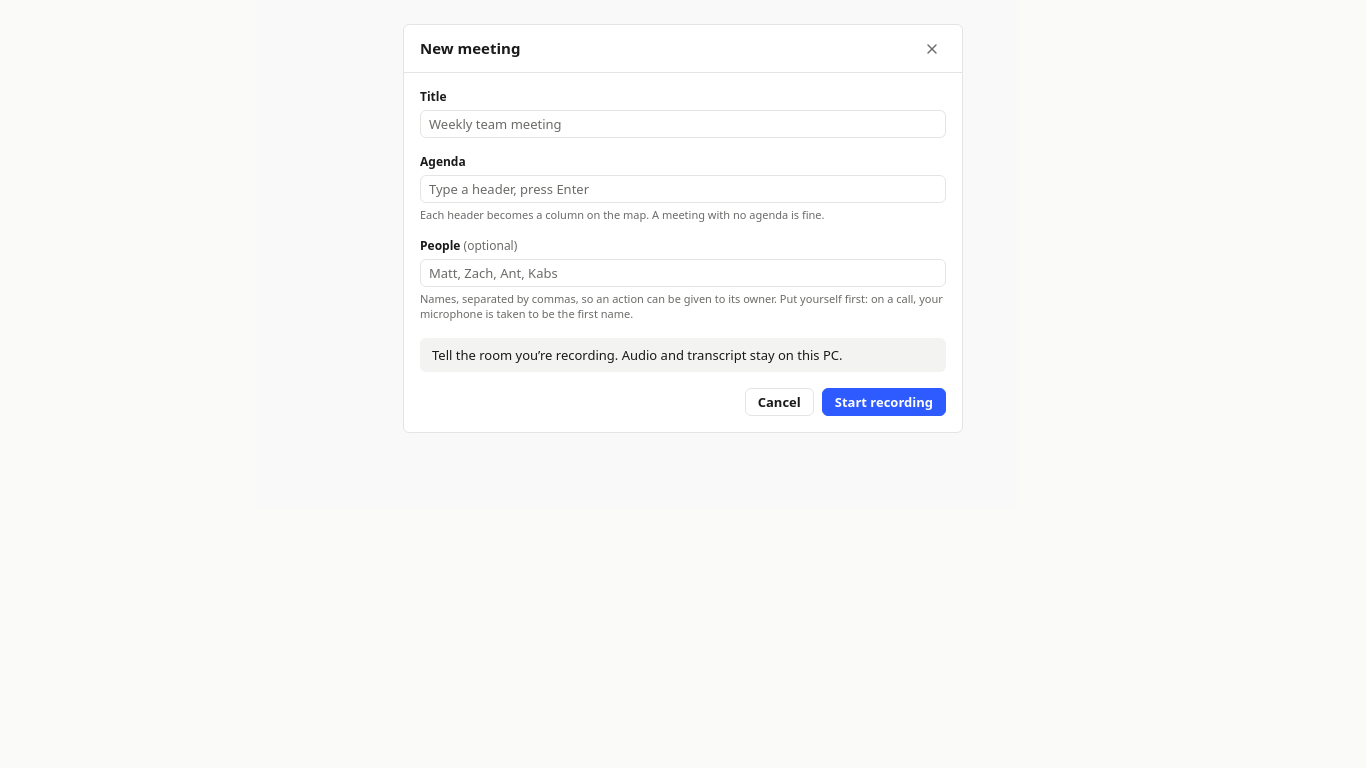
Test: PreMeeting › says so when the meeting cannot be created, and lets the host retry
What coordinates should you click on to do the following:
click the button "Start recording"
I would click on:
 (884, 402)
Its box is [822, 388, 946, 416].
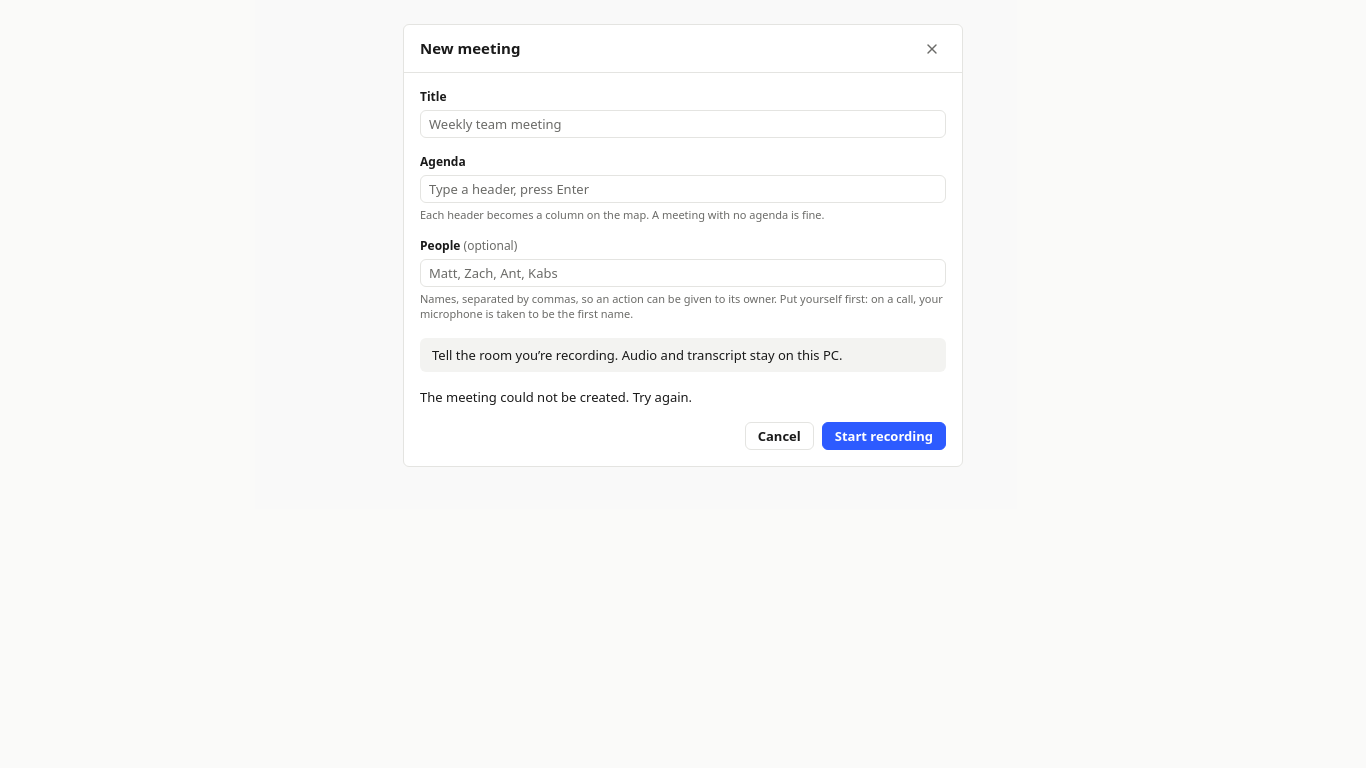
Expected: the button "Start recording" is enabled, [822, 422, 946, 450]
Now the message shows "The meeting could not be created.", box [420, 388, 692, 406]
